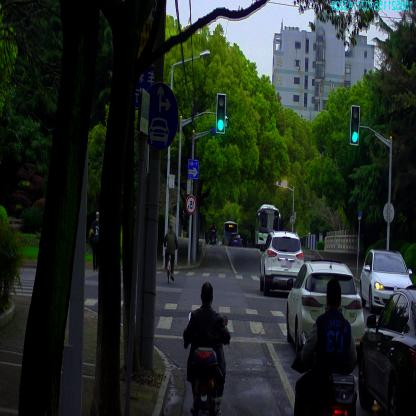traffic-light: (216, 94, 226, 132), (350, 106, 360, 144)
